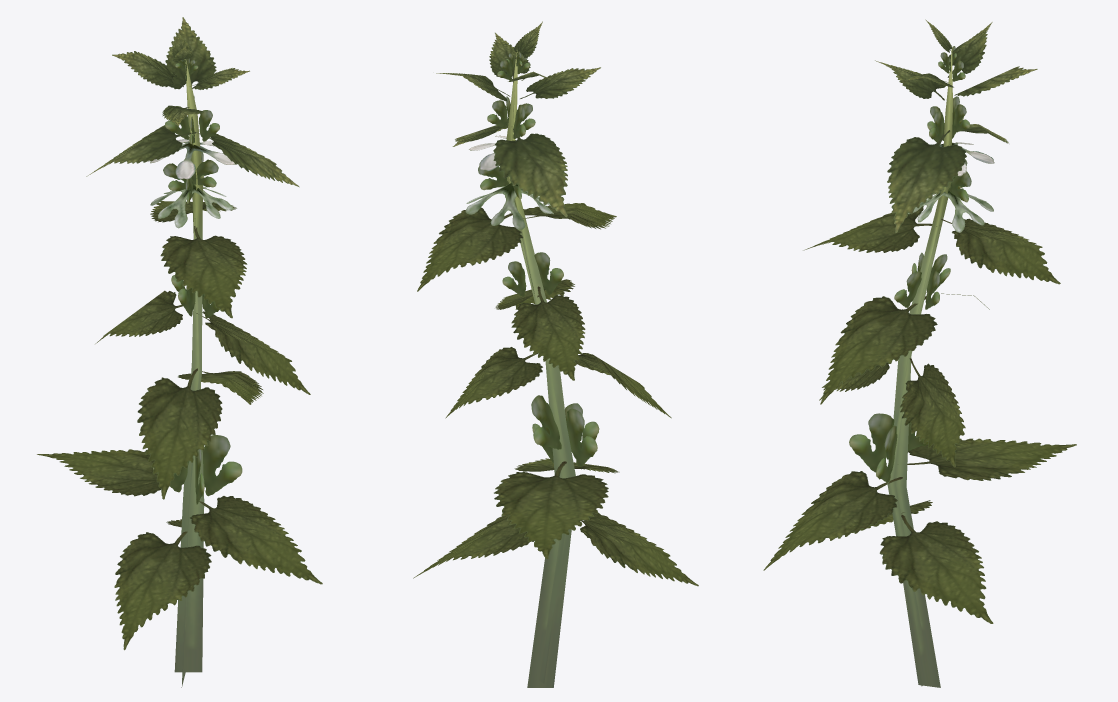
The model's file is arden_forest_nettle_04_foliage.fbx.
The picture shows the model from 3 angles, left to right: view 1: azimuth 30°, elevation 25°; view 2: azimuth 150°, elevation 25°; view 3: azimuth 270°, elevation 25°; orthographic projection. The views are drawn at different scales.
Visible parts, largest first — view 1: arden_forest_nettle_04_foliage; view 2: arden_forest_nettle_04_foliage; view 3: arden_forest_nettle_04_foliage.
Part boxes in pixels (x1,y1,x2,y2): arden_forest_nettle_04_foliage: [37, 17, 322, 687]; arden_forest_nettle_04_foliage: [413, 21, 698, 687]; arden_forest_nettle_04_foliage: [763, 19, 1076, 687].
Bounding box in the file's own units: 39.02 × 94.9 × 46.95.
